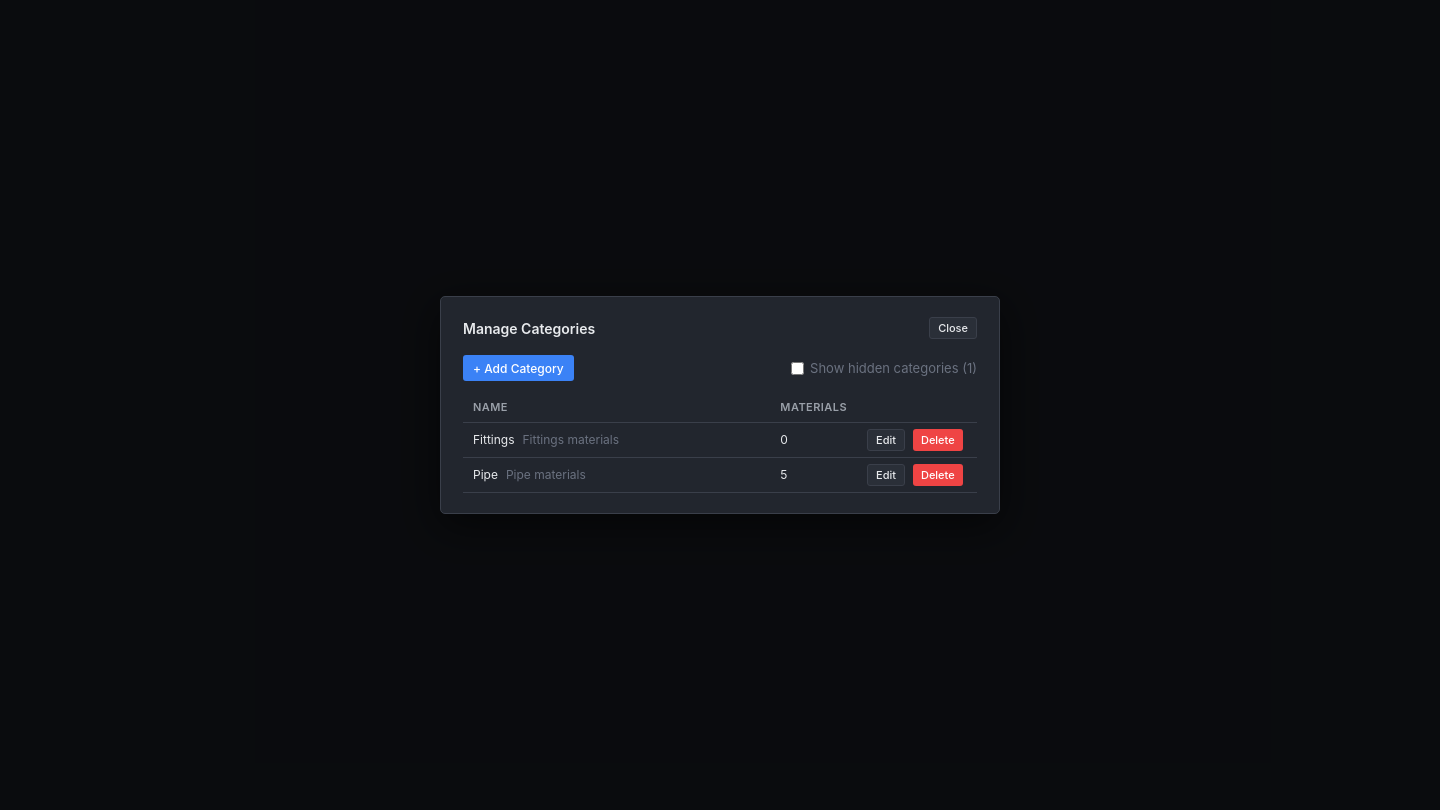
Test: MaterialCategoryManager Component › hides inactive categories by default and shows them when toggle is checked
Expected: the heading "Manage Categories" is shown, left=463, top=318, right=595, bottom=339
Expected: the text "Pipe" is shown, left=473, top=467, right=498, bottom=482
Click the checkbox labelled "Show hidden categories (1)". click: click(798, 368)
box: left=791, top=362, right=804, bottom=375
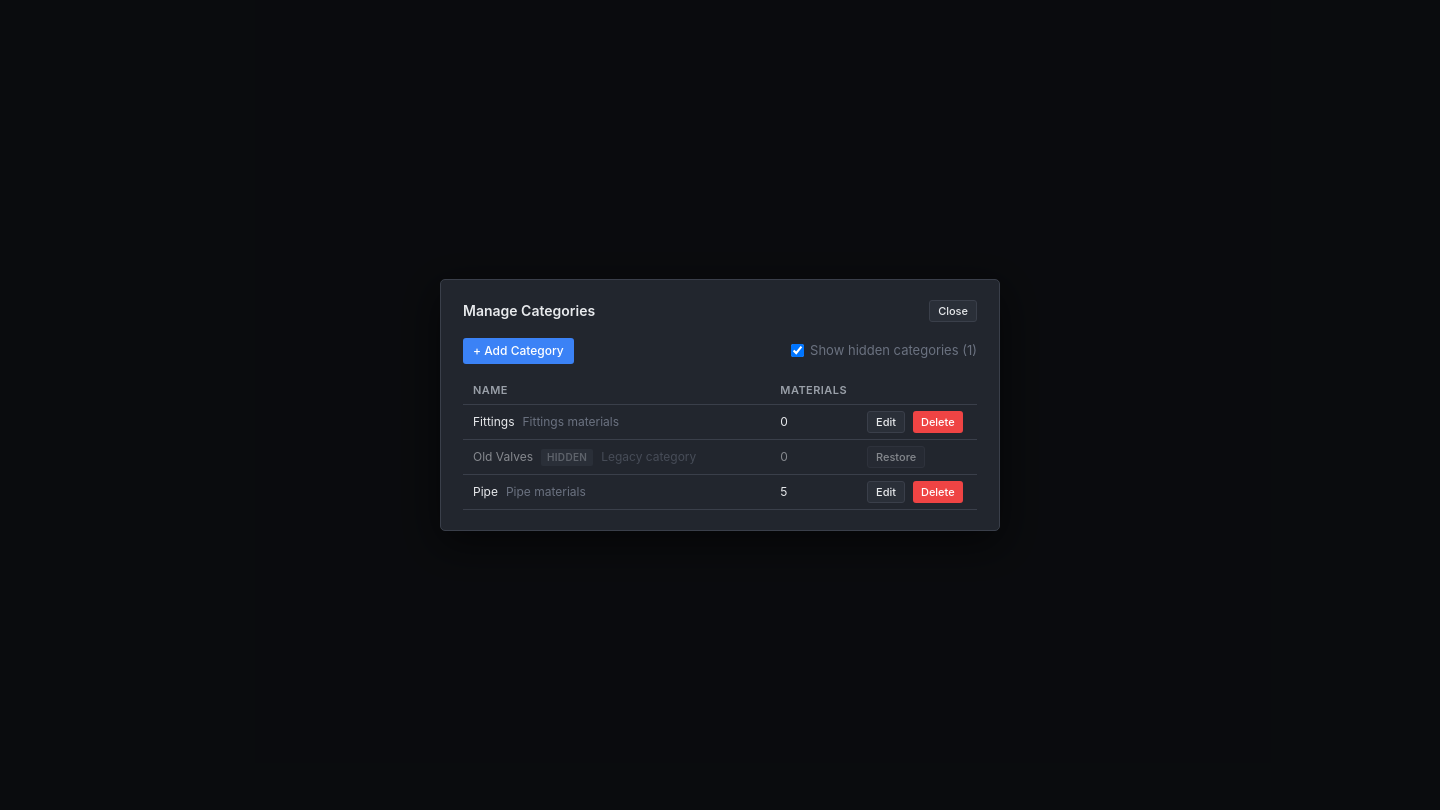
Expected: the text "Old Valves" is shown, left=473, top=449, right=533, bottom=464
Expected: the text "hidden" is shown, left=541, top=449, right=593, bottom=466
